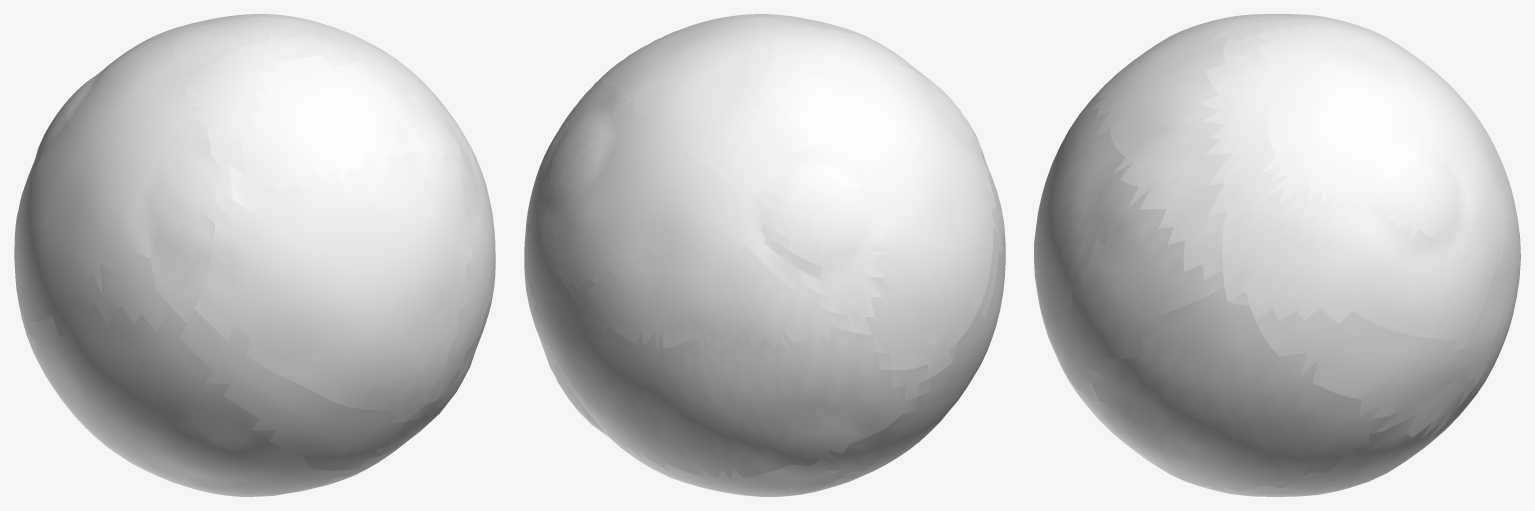
Rendered from prop_ball.glb.
The picture shows the model from 3 angles, left to right: view 1: azimuth 30°, elevation 25°; view 2: azimuth 150°, elevation 25°; view 3: azimuth 270°, elevation 25°; orthographic projection.
Bounding box in the file's own units: 1.9 × 1.9 × 1.9.
Materials: 1 (1 with a texture image).
